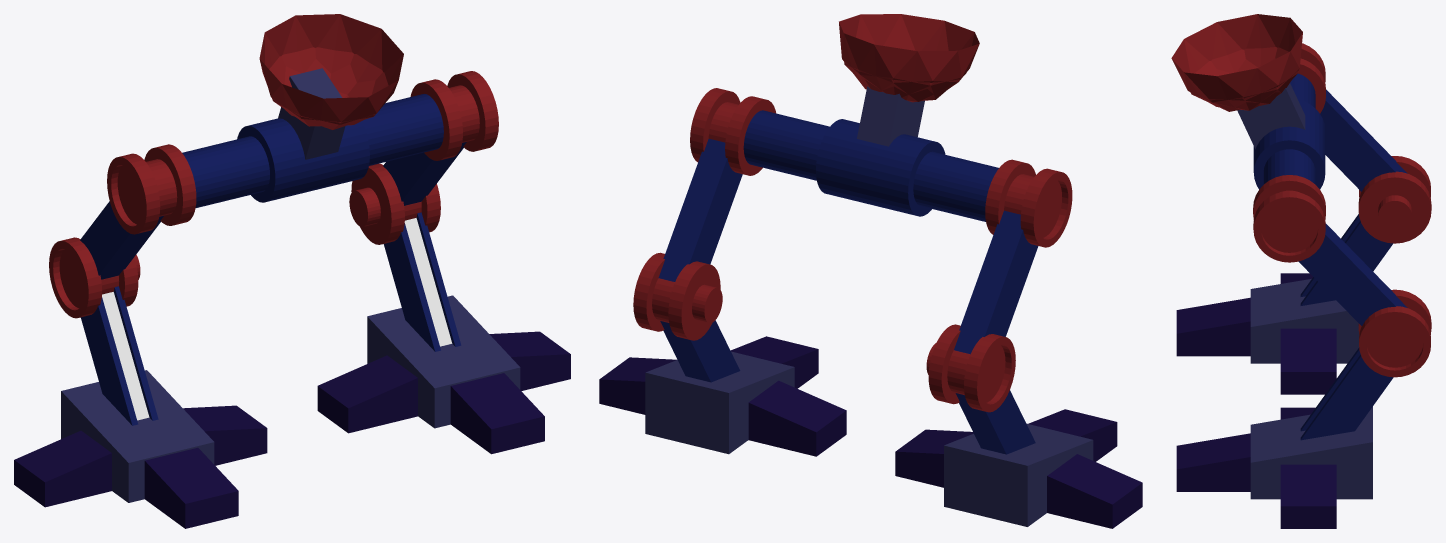
File: Mech Legs.fbx
The picture shows the model from 3 angles, left to right: view 1: azimuth 30°, elevation 25°; view 2: azimuth 150°, elevation 25°; view 3: azimuth 270°, elevation 25°; orthographic projection. The views are drawn at different scales.
Visible parts, largest first — view 1: Legs; view 2: Legs; view 3: Legs.
Part boxes in pixels (x1,y1,x2,y2): Legs: [14, 14, 570, 528]; Legs: [599, 14, 1142, 528]; Legs: [1171, 14, 1431, 528].
Size of the model in its own units: 392 by 298 by 185.
